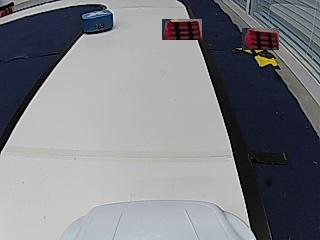prop: (82, 10, 113, 34)
